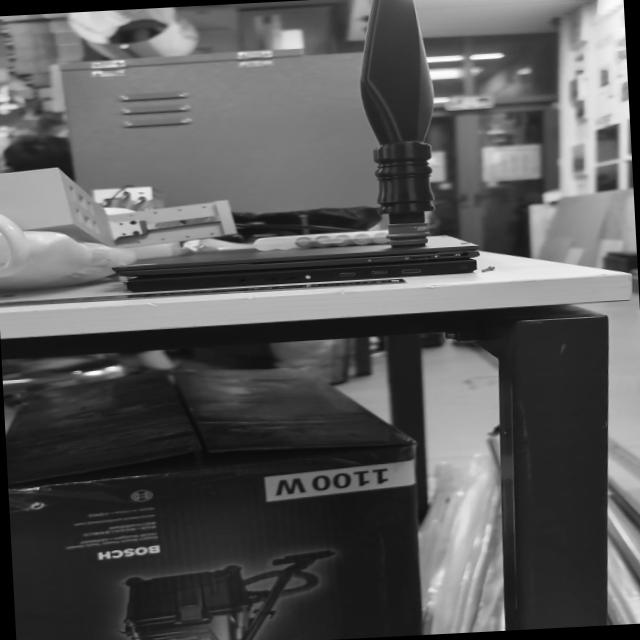base: (383, 222, 430, 252)
